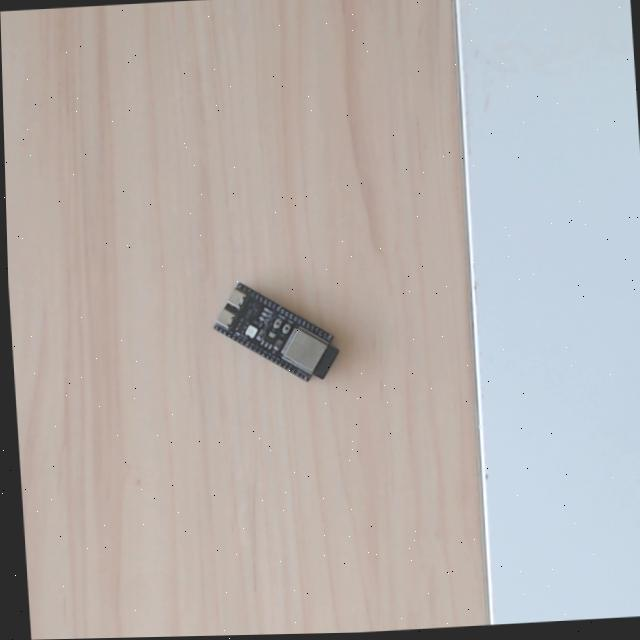ESP32S3-Devkit: (206, 278, 345, 391)
